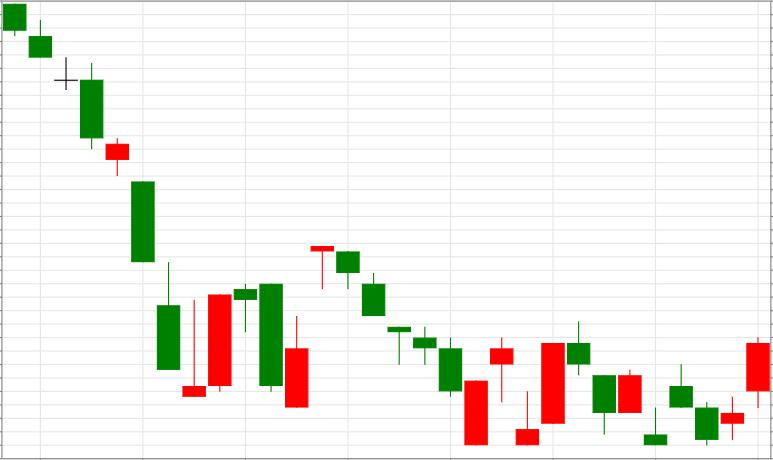morning_star_rise: (3, 3, 232, 397)
